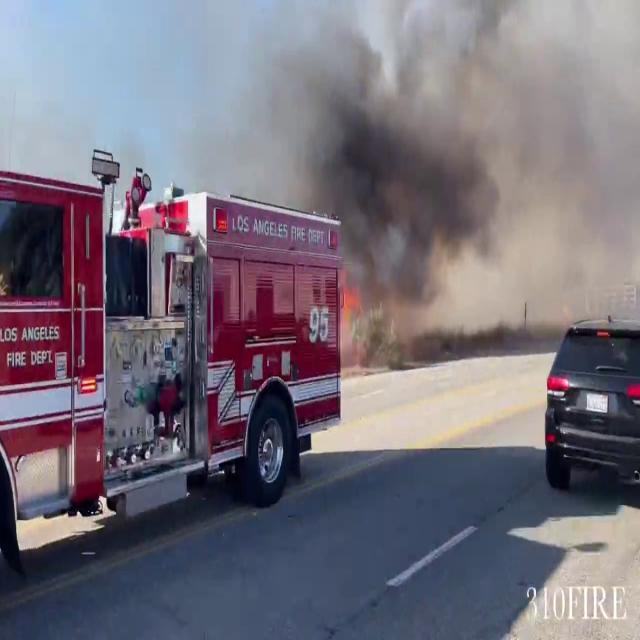Smoke: (263, 0, 640, 334)
